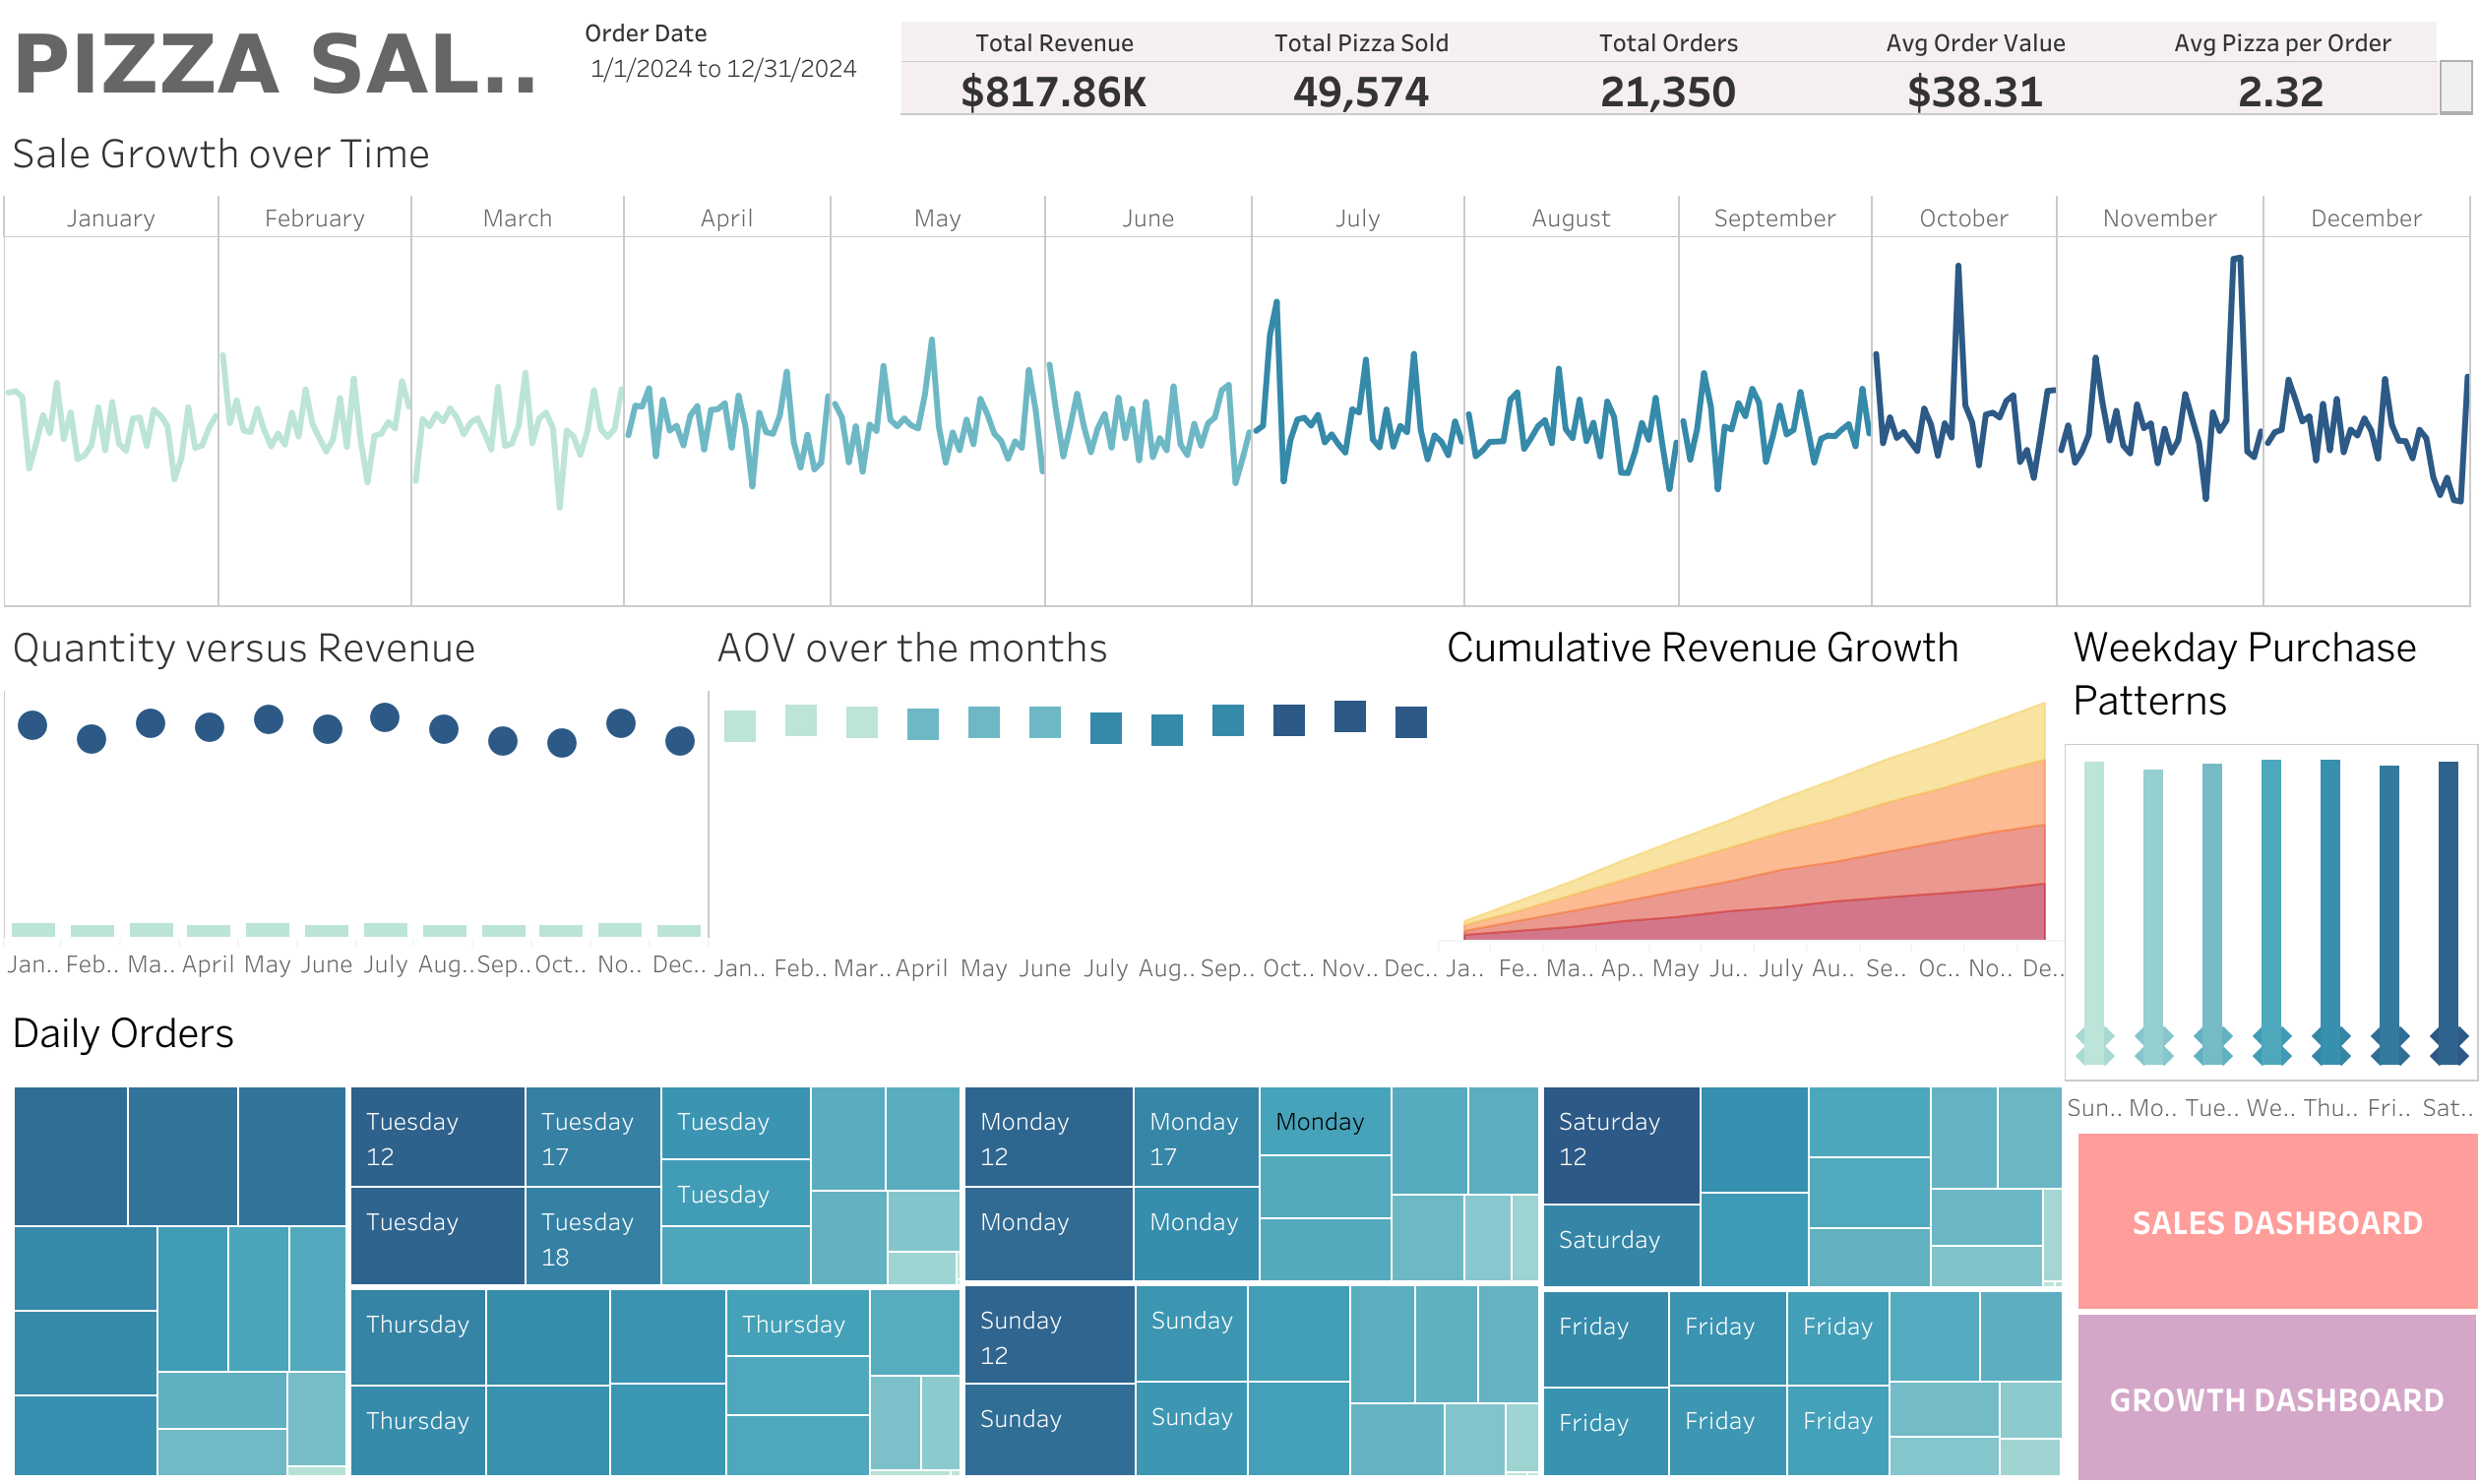

The dashboard page shown, as its layout file describes it:
{"tool":"tableau","page":{"name":"growthdash","canvas":[1000,1000],"units":"permille","ordinal":0},"visuals":[{"type":"filter","title":"KPIs","param":"[federated.0m5pwt50i0kq8q12h5urp1g4rpb7].[none:order_date:qk]","box":[235.8,7.6,122,77.4]},{"type":"worksheet","title":"KPIs","mark":"Text","box":[363.4,15.2,633.3,63.5]},{"type":"worksheet","title":"Sheet 9","mark":"Automatic","rows":["Calculation_2167990708001095680"],"cols":["order_date","order_date"],"box":[1.6,76.1,994.3,332.5]},{"type":"worksheet","title":"Sheet 14","mark":"Automatic","rows":["quantity","total_price"],"cols":["order_date"],"box":[1.6,407.4,284.6,253.8]},{"type":"worksheet","title":"Sheet 11","mark":"Square","rows":["Calculation_3621457052283461633"],"cols":["order_date"],"box":[285.4,407.4,295.9,255.1]},{"type":"worksheet","title":"Sheet 10","mark":"Area","rows":["Calculation_3621457052281974784"],"cols":["order_date"],"box":[579.7,408.6,254.5,258.9]},{"type":"worksheet","title":"Sheet 15","mark":"Shape","rows":["Calculation_2167990708012445700","Calculation_2167990708011077634"],"cols":["order_date"],"box":[831.7,408.6,167.5,342.6]},{"type":"worksheet","title":"Sheet 12","mark":"Automatic","box":[1.6,668.8,833.3,332.5]},{"type":"dashboard-object","box":[837.4,762.7,161,118]},{"type":"dashboard-object","box":[837.4,884.5,160.2,111.7]}]}

Visuals, with their boxes on the dashboard's canvas, which has no fixed pixel size, in thousandths of its width and height (x1, y1, x2, y2). These are canvas units, not pixel positions in the 2480x1484 screenshot, which may show the page scaled, cropped or inside an application window:
"KPIs" filter: x1=236 y1=8 x2=358 y2=85
"KPIs" worksheet (Text marks): x1=363 y1=15 x2=997 y2=79
"Sheet 9" worksheet: x1=2 y1=76 x2=996 y2=409
"Sheet 14" worksheet: x1=2 y1=407 x2=286 y2=661
"Sheet 11" worksheet (Square marks): x1=285 y1=407 x2=581 y2=662
"Sheet 10" worksheet (Area marks): x1=580 y1=409 x2=834 y2=668
"Sheet 15" worksheet (Shape marks): x1=832 y1=409 x2=999 y2=751
"Sheet 12" worksheet: x1=2 y1=669 x2=835 y2=1001
dashboard-object: x1=837 y1=763 x2=998 y2=881
dashboard-object: x1=837 y1=884 x2=998 y2=996
